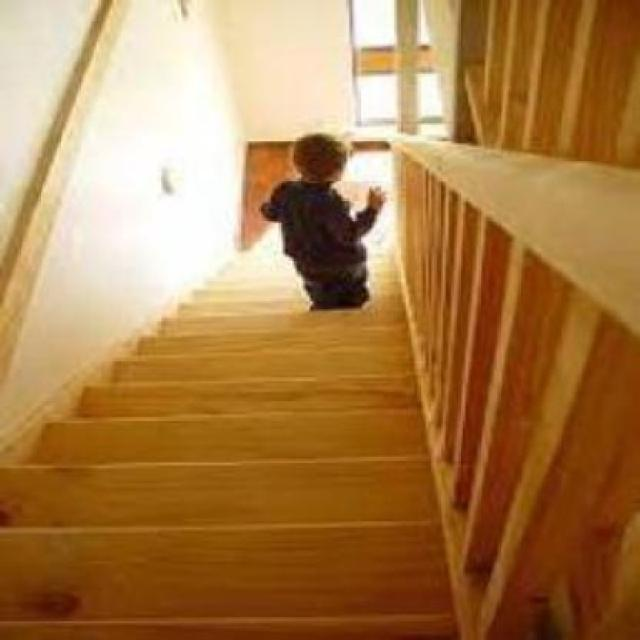stair: (8, 327, 428, 640)
